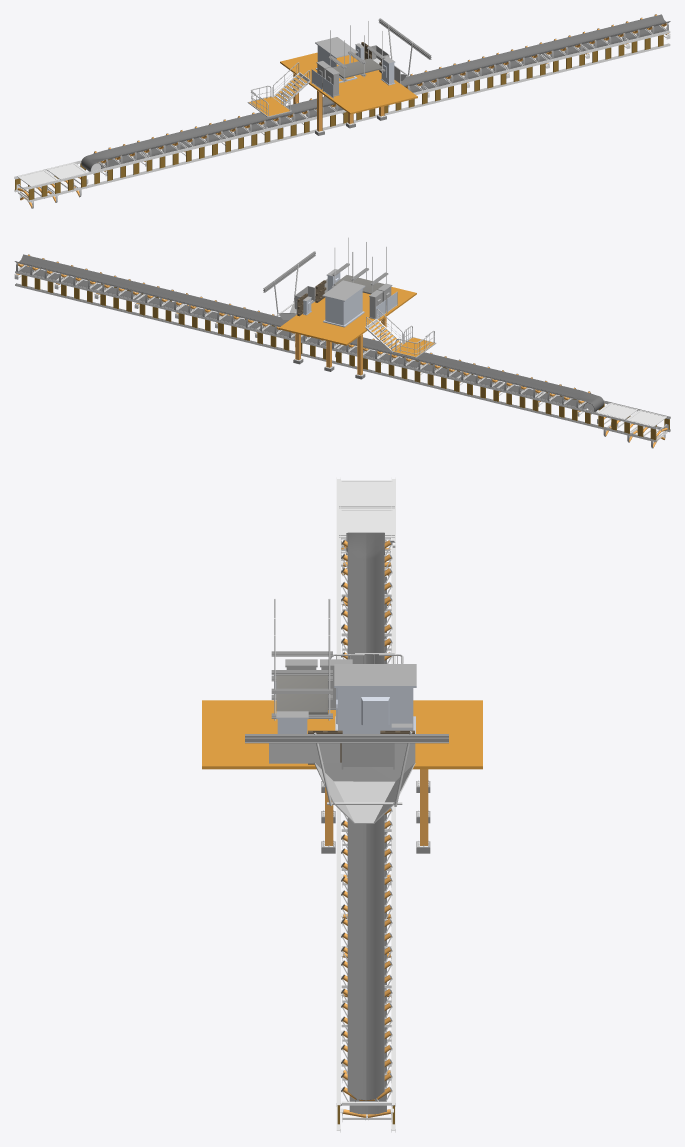
3 views of the same model, one above another, from view 1: azimuth 30°, elevation 25°; view 2: azimuth 150°, elevation 25°; view 3: azimuth 270°, elevation 25° (orthographic). The views are drawn at different scales.
Visible parts, largest first — view 1: 皮带-皮带 (×2), 侧边结构.1-钢, 中间大平台-大平台油漆 (×2), 侧边结构.1-侧板, 中间大平台-蓝钢, 滚轮结构上-黑钢, 后方上板, 中间大平台-黑钢, 中间大平台-钢3, 滚轮结构上-材质, 滚轮结构上-钢, 中间大平台-黑钢2 (+4 smaller); view 2: 皮带-皮带 (×2), 侧边结构-钢, 侧边结构-侧板, 中间大平台-大平台油漆 (×2), 中间大平台-蓝钢, 滚轮结构上-黑钢, 后方上板, 中间大平台-钢3, 滚轮结构上-材质, 滚轮结构上-钢, 中间大平台-黑钢, 中间大平台-黑钢2 (+5 smaller); view 3: 皮带-皮带, 中间大平台-大平台油漆, 中间大平台-钢3 (×2), 中间大平台-蓝钢, 中间大平台-黑钢, 后方上板, 侧边结构.1-钢, 侧边结构-钢, 中间大平台-灰, 中间大平台-黑钢2, 滚轮结构上-材质, 中间大平台-平台 (+2 smaller).
Boxes of the visible parts, left/top/right/bottom form: 皮带-皮带 (×2): left=81, top=14, right=670, bottom=171; 侧边结构.1-钢: left=27, top=30, right=670, bottom=202; 中间大平台-大平台油漆 (×2): left=249, top=52, right=417, bottom=115; 侧边结构.1-侧板: left=28, top=34, right=663, bottom=200; 中间大平台-蓝钢: left=311, top=42, right=395, bottom=99; 滚轮结构上-黑钢: left=93, top=14, right=668, bottom=167; 后方上板: left=17, top=162, right=88, bottom=186; 中间大平台-黑钢: left=315, top=18, right=431, bottom=135; 中间大平台-钢3: left=247, top=62, right=310, bottom=117; 滚轮结构上-材质: left=94, top=14, right=666, bottom=163; 滚轮结构上-钢: left=100, top=25, right=666, bottom=166; 中间大平台-黑钢2: left=316, top=45, right=389, bottom=96; 皮带-皮带 (×2): left=14, top=254, right=603, bottom=411; 侧边结构-钢: left=15, top=271, right=657, bottom=442; 侧边结构-侧板: left=21, top=275, right=656, bottom=440; 中间大平台-大平台油漆 (×2): left=279, top=287, right=434, bottom=356; 中间大平台-蓝钢: left=303, top=272, right=397, bottom=327; 滚轮结构上-黑钢: left=16, top=254, right=590, bottom=408; 后方上板: left=596, top=403, right=667, bottom=426; 中间大平台-钢3: left=366, top=309, right=436, bottom=357; 滚轮结构上-材质: left=17, top=254, right=590, bottom=403; 滚轮结构上-钢: left=18, top=265, right=583, bottom=405; 中间大平台-黑钢: left=263, top=251, right=388, bottom=379; 中间大平台-黑钢2: left=294, top=283, right=392, bottom=319; 皮带-皮带: left=347, top=532, right=384, bottom=1100; 中间大平台-大平台油漆: left=202, top=700, right=482, bottom=769; 中间大平台-钢3 (×2): left=269, top=743, right=415, bottom=823; 中间大平台-蓝钢: left=274, top=675, right=416, bottom=733; 中间大平台-黑钢: left=245, top=651, right=448, bottom=853; 后方上板: left=339, top=480, right=394, bottom=537; 侧边结构.1-钢: left=336, top=477, right=340, bottom=1132; 侧边结构-钢: left=391, top=477, right=395, bottom=1132; 中间大平台-灰: left=276, top=664, right=416, bottom=727; 中间大平台-黑钢2: left=285, top=659, right=394, bottom=769; 滚轮结构上-材质: left=342, top=540, right=391, bottom=1100; 中间大平台-平台: left=276, top=675, right=327, bottom=714.
Bounding box in the file's own units: 5116 × 827 × 966.
